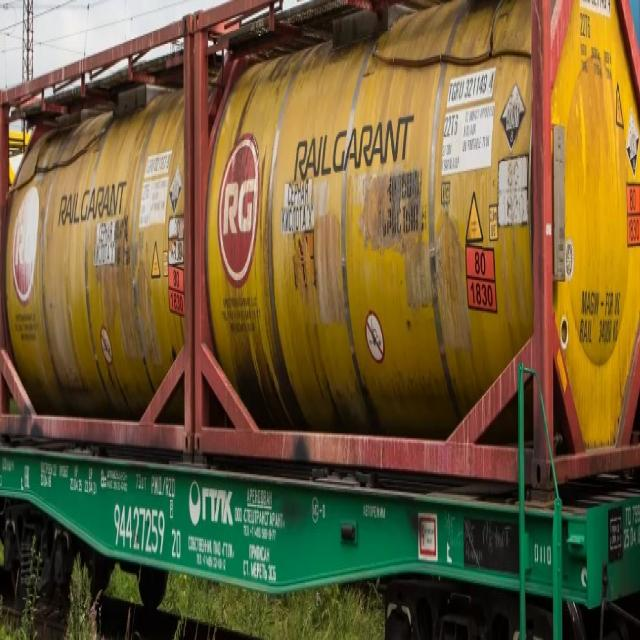flatcar: (0, 439, 640, 640)
tank: (192, 0, 640, 495), (0, 0, 193, 464)
